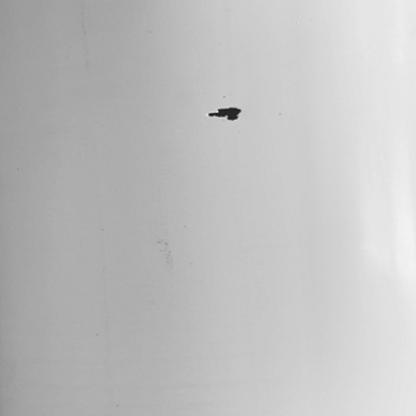kongdong: (201, 101, 244, 126)
